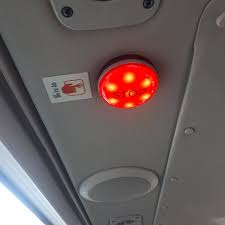bell: (94, 53, 165, 113)
